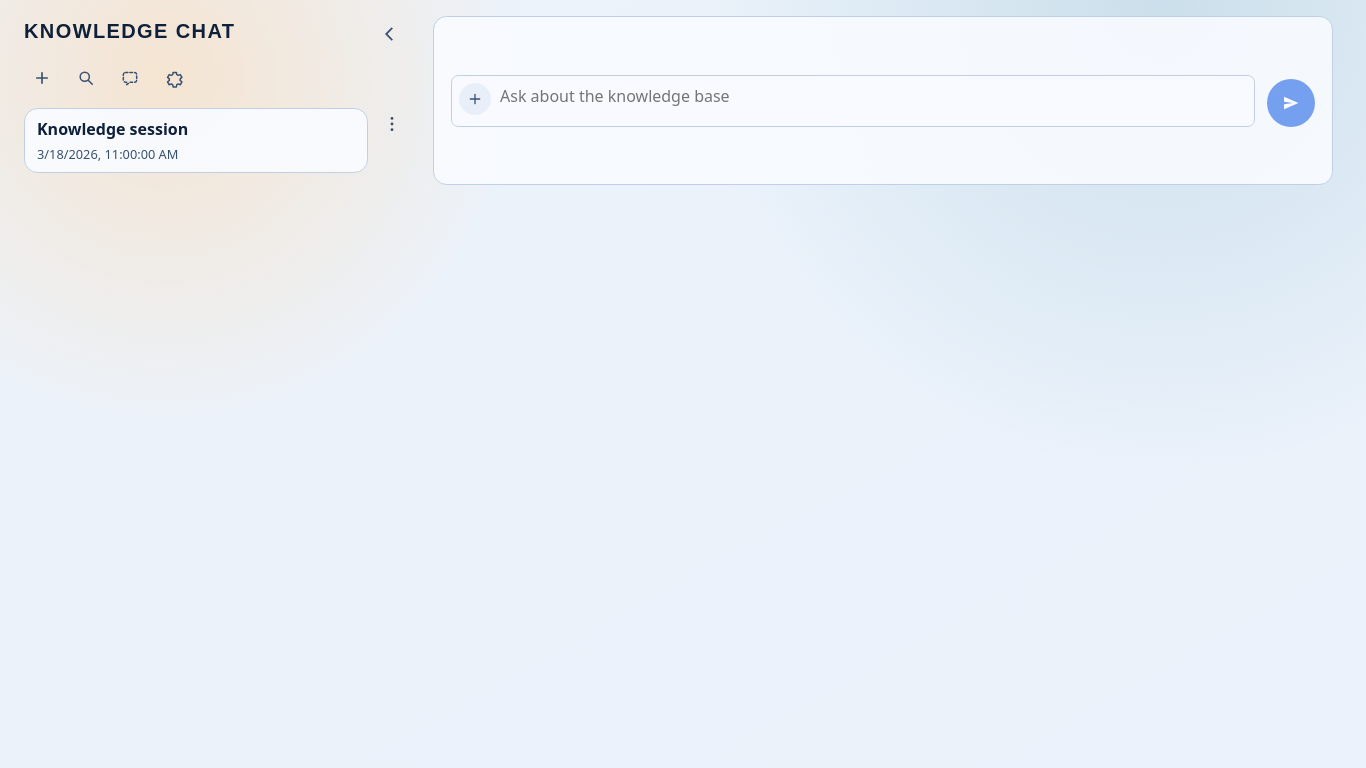
it: KnowledgePlaygroundPage › shows an honest empty selector state when no default KB is available on the local draft
Click the button named "Chat settings". click: x=174, y=78
box: [156,60,192,96]
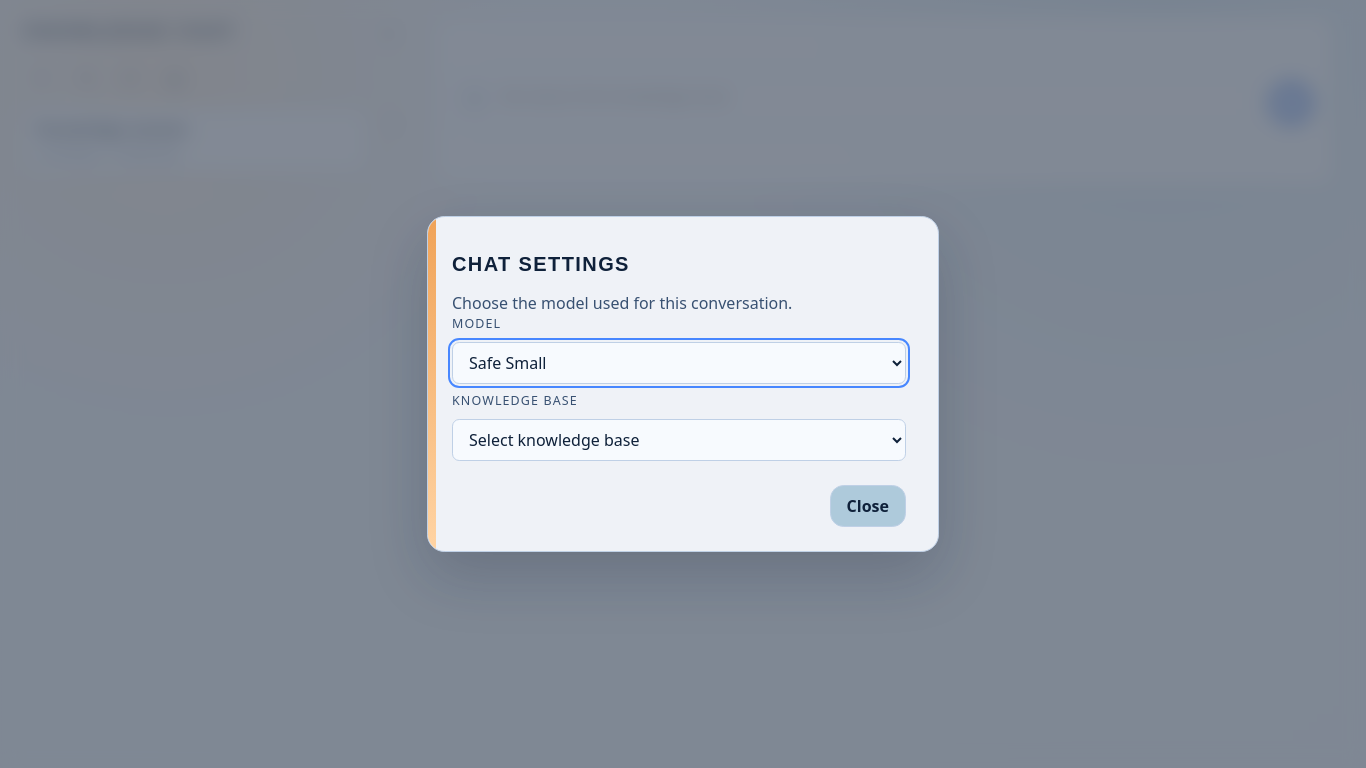
Result: the dropdown labelled "Knowledge base" shows "Select knowledge base" at [452,419,906,461]
Click the button "Close". click: x=868, y=506
box: [830,485,906,527]
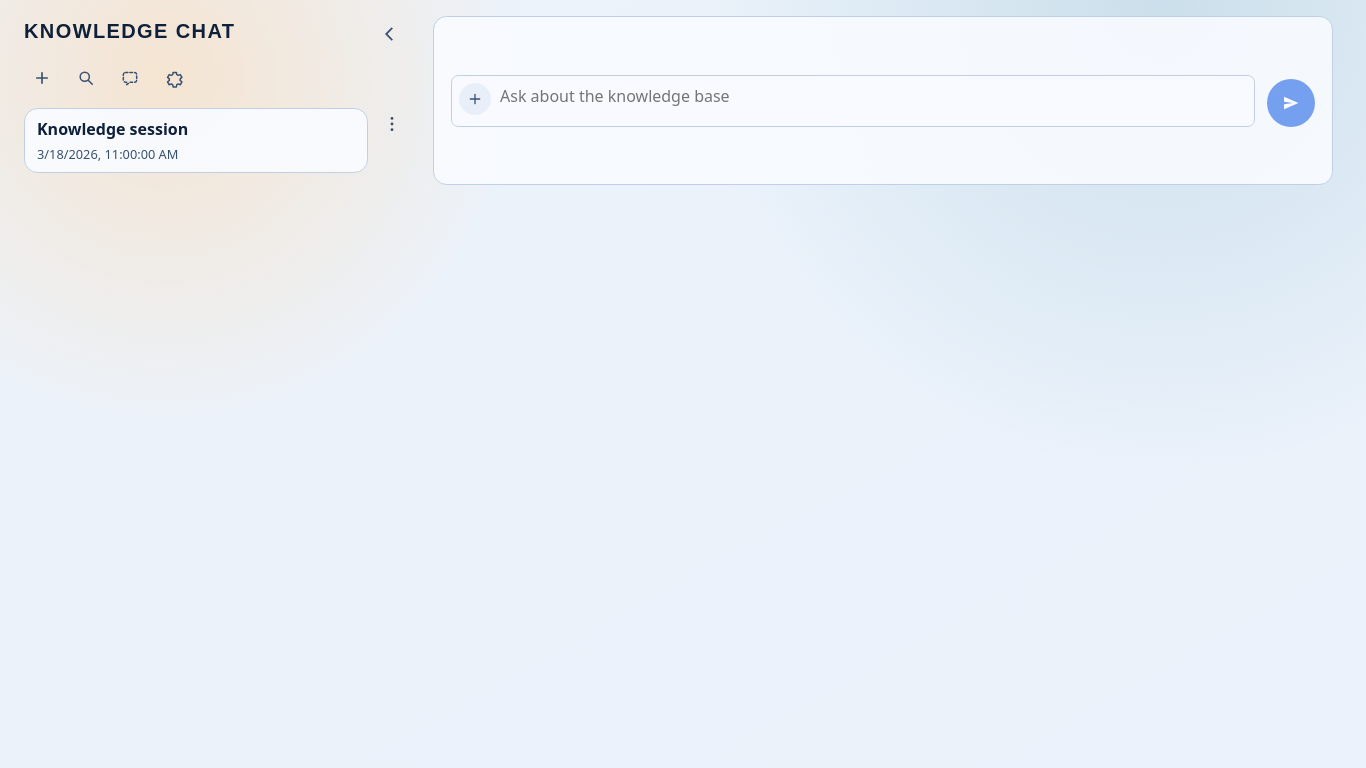
Type "Need an answer" into the text box named "Message". click: x=853, y=101
box: [451,75,1255,127]
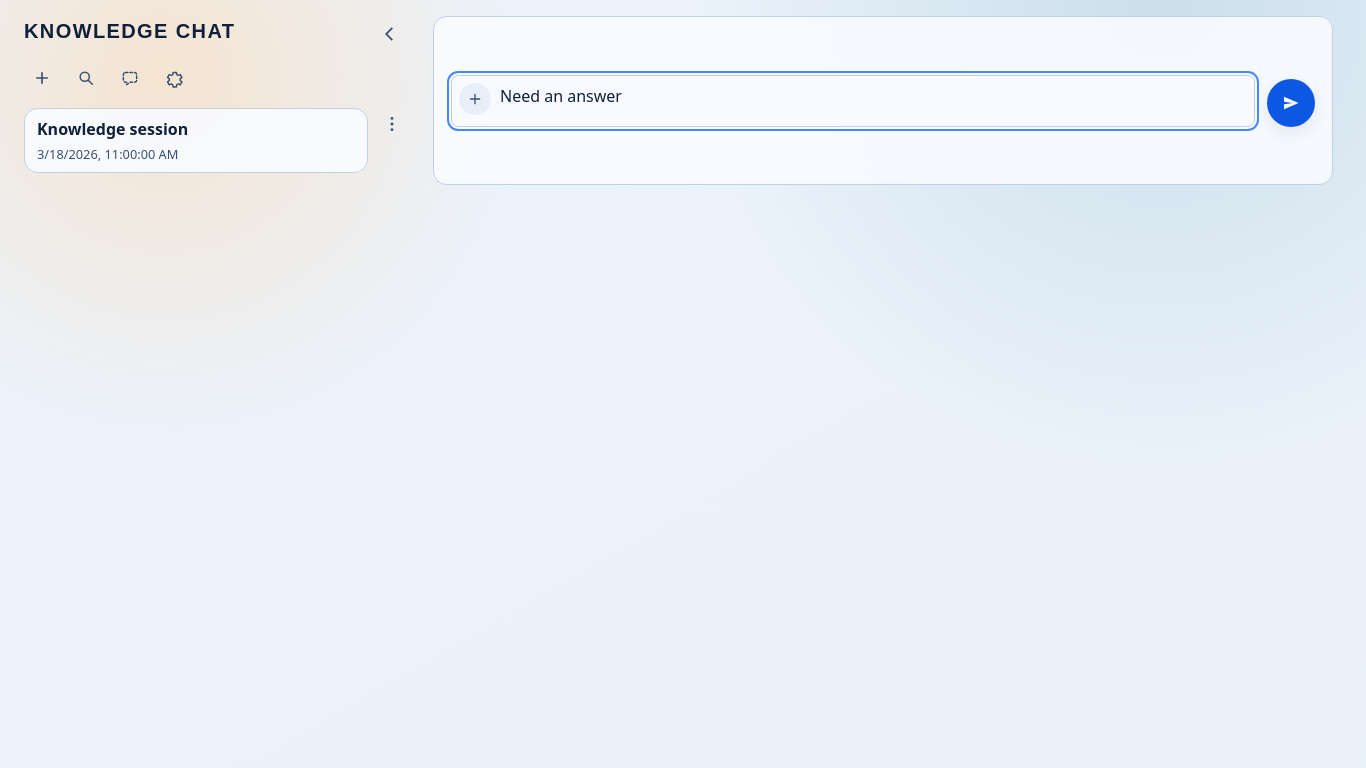
Click the button named "Ask knowledge chat". click: x=1291, y=103
box: [1267,79,1315,127]
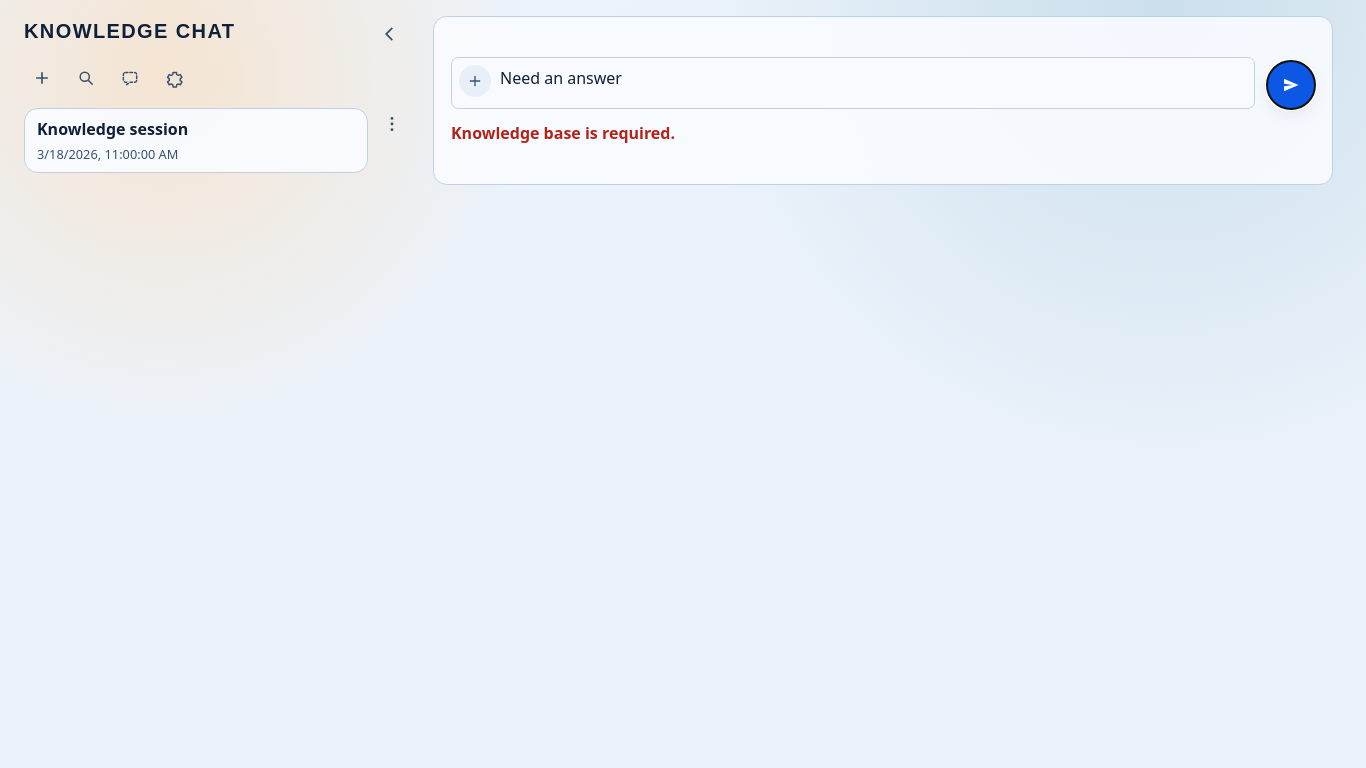
Result: the text "Knowledge base is required." is shown at [451,122,675,144]
